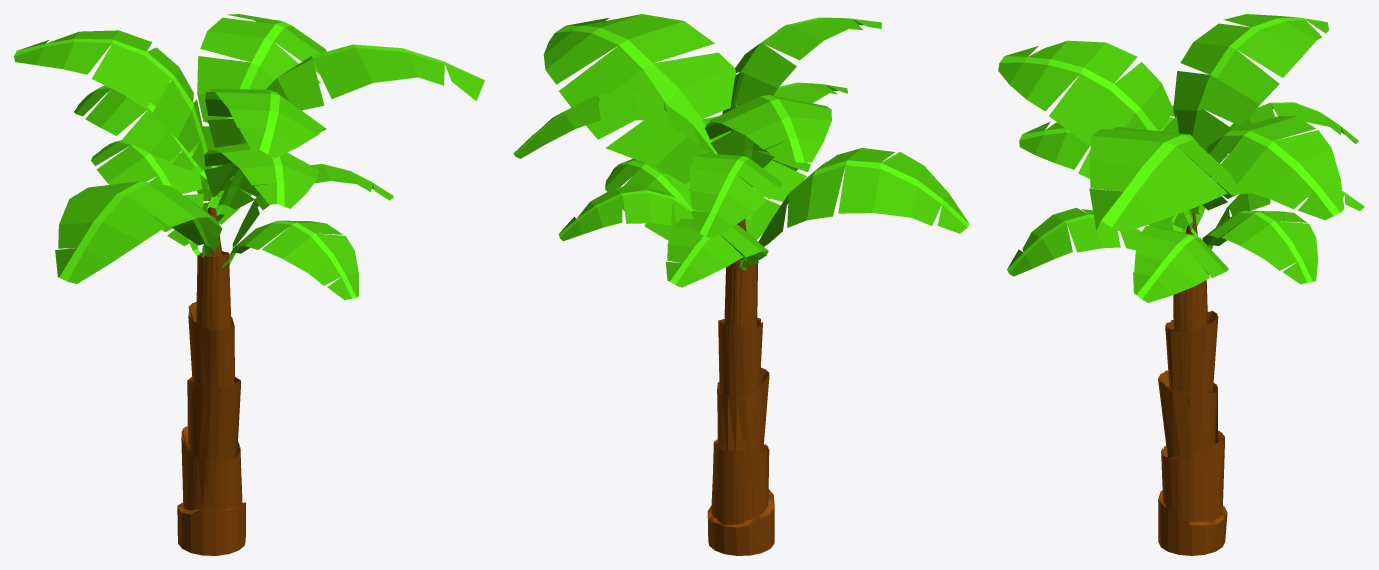
File: bananatreefix.fbx
The picture shows the model from 3 angles, left to right: view 1: azimuth 30°, elevation 25°; view 2: azimuth 150°, elevation 25°; view 3: azimuth 270°, elevation 25°; orthographic projection. The views are drawn at different scales.
Visible parts, largest first — view 1: Cylinder, Sphere.007, Sphere.001, Sphere.008, Sphere.011, Sphere.005, Sphere.002, Sphere.010, Sphere.003, Sphere.006, Sphere.016, Sphere.022 (+8 smaller); view 2: Sphere.011, Cylinder, Sphere.007, Sphere.001, Sphere.012, Sphere.003, Sphere.005, Sphere.008, Sphere.006, Sphere.009, Sphere.016, Sphere.004 (+8 smaller); view 3: Cylinder, Sphere.001, Sphere.011, Sphere.005, Sphere.008, Sphere.009, Sphere.004, Sphere.010, Sphere.018, Sphere.022, Sphere.012, Sphere.015 (+7 smaller).
Boxes of the visible parts, <box> form: Cylinder: <box>177,198,245,555</box>; Sphere.007: <box>55,181,222,283</box>; Sphere.001: <box>14,30,212,197</box>; Sphere.008: <box>197,14,326,199</box>; Sphere.011: <box>218,44,484,205</box>; Sphere.005: <box>205,89,326,208</box>; Sphere.002: <box>204,143,318,222</box>; Sphere.010: <box>219,220,358,299</box>; Sphere.003: <box>74,82,206,179</box>; Sphere.006: <box>91,140,203,256</box>; Sphere.016: <box>55,182,220,282</box>; Sphere.022: <box>14,30,209,168</box>; Sphere.011: <box>543,14,736,190</box>; Cylinder: <box>707,219,774,555</box>; Sphere.007: <box>758,148,969,246</box>; Sphere.001: <box>705,95,831,167</box>; Sphere.012: <box>544,15,735,182</box>; Sphere.003: <box>689,153,782,238</box>; Sphere.005: <box>722,17,881,131</box>; Sphere.008: <box>513,91,714,158</box>; Sphere.006: <box>665,218,768,287</box>; Sphere.009: <box>558,185,729,265</box>; Sphere.016: <box>760,149,969,245</box>; Sphere.004: <box>605,158,726,267</box>; Cylinder: <box>1158,213,1227,555</box>; Sphere.001: <box>1173,14,1328,214</box>; Sphere.011: <box>1089,127,1254,232</box>; Sphere.005: <box>998,40,1178,145</box>; Sphere.008: <box>1196,116,1344,219</box>; Sphere.009: <box>1202,210,1318,284</box>; Sphere.004: <box>1133,225,1228,301</box>; Sphere.010: <box>1007,207,1140,276</box>; Sphere.018: <box>999,41,1177,144</box>; Sphere.022: <box>1174,15,1328,150</box>; Sphere.012: <box>1090,129,1247,231</box>; Sphere.015: <box>1206,116,1342,218</box>.
Bounding box in the file's own units: 1821 × 2019 × 1393.
